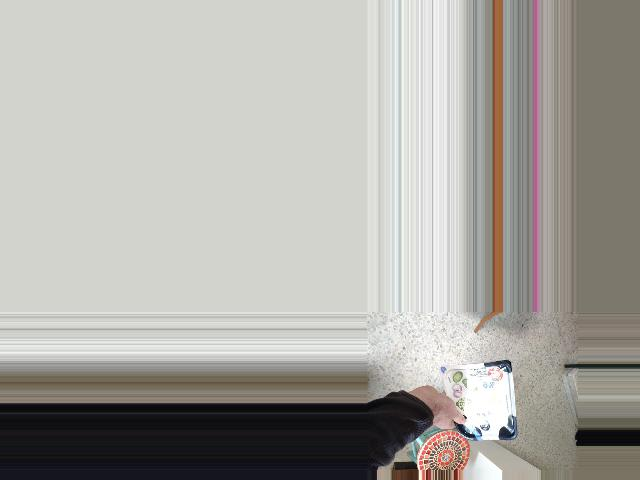cheese: (414, 362, 501, 441)
